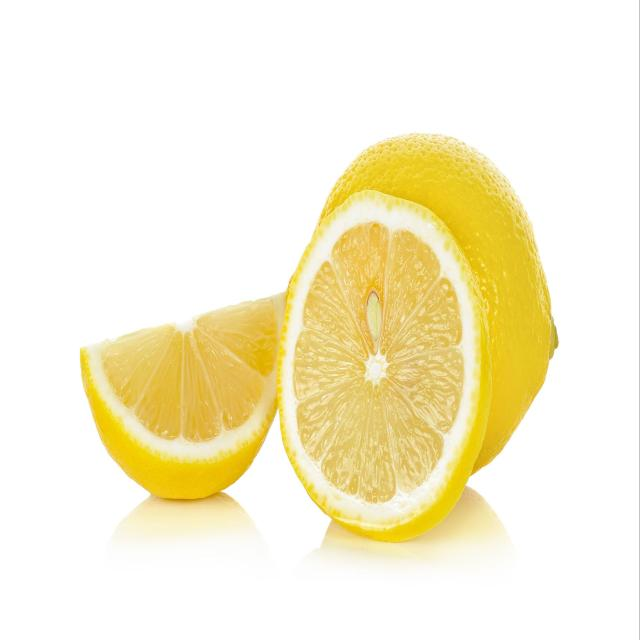lemon: (272, 128, 560, 549), (72, 282, 290, 504)
